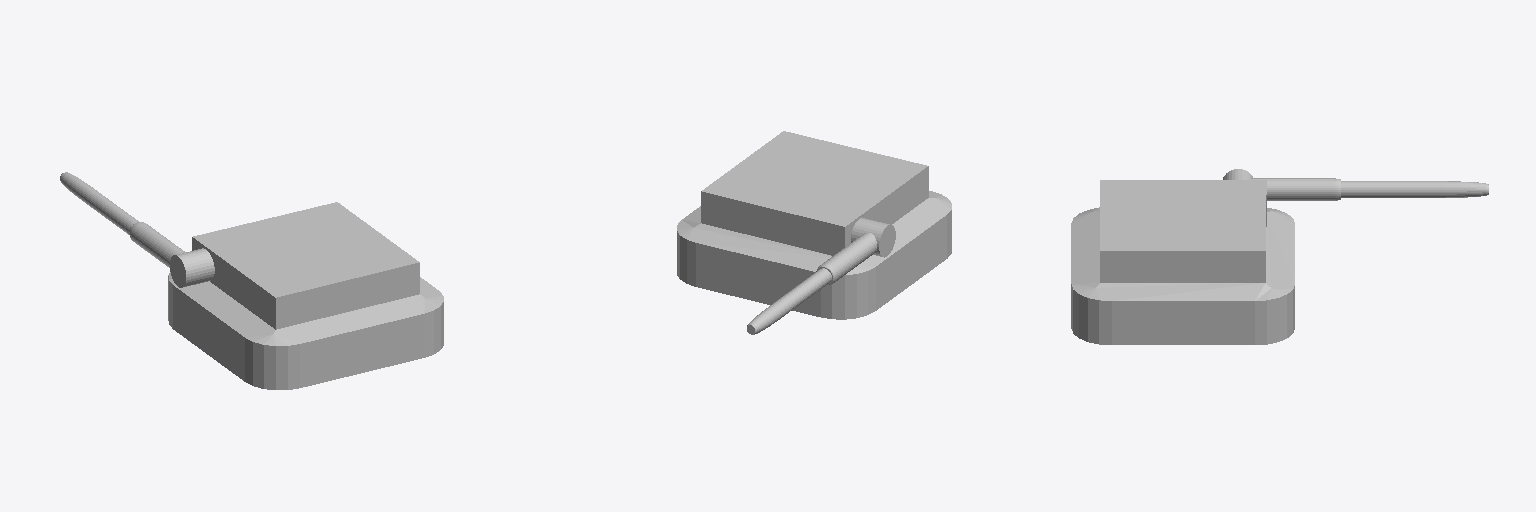
The model's file is wireless.obj.
The picture shows the model from 3 angles: view 1: azimuth 30°, elevation 25°; view 2: azimuth 150°, elevation 25°; view 3: azimuth 270°, elevation 25°; orthographic projection.
Visible parts, largest first — view 1: 立方体; view 2: 立方体; view 3: 立方体.
Part boxes in pixels (x1,y1,x2,y2): 立方体: (60,172,443,389); 立方体: (677,131,951,334); 立方体: (1071,169,1488,344).
Size of the model in its own units: 0.4076 by 0.1629 by 0.7459.